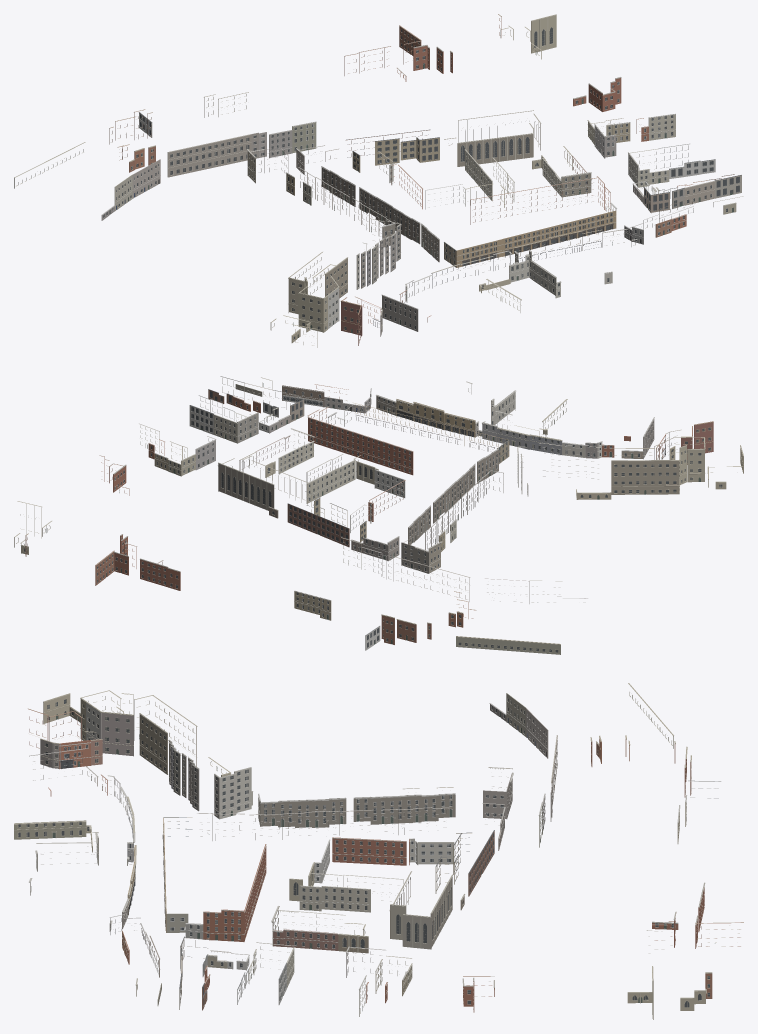
3 views of the same model, one above another, from view 1: azimuth 30°, elevation 25°; view 2: azimuth 150°, elevation 25°; view 3: azimuth 270°, elevation 25° (orthographic). The views are drawn at different scales.
Parts seen in each view (by area): view 1: f:way/59294560, f:way/329732237, f:way/93900071, f:way/1037990951, f:way/100328256, f:way/13219655, f:way/147456496, f:way/103654296, f:way/172315107, f:way/93900090, f:way/161063775, f:way/1038002873 (+14 smaller); view 2: f:way/59294560, f:way/13219655, f:way/93900091, f:way/93900071, f:way/100328256, f:way/161063724, f:way/1476229095, f:way/112080986, f:way/100328272, f:way/855161125, f:way/329732238, f:way/172315107 (+11 smaller); view 3: f:way/59294560, f:way/147456496, f:way/93900071, f:way/93900091, f:way/100328272, f:way/100328275, f:way/147456505, f:way/1476229095, f:way/172315107, f:way/103654296, f:way/100328256, f:way/100328277 (+7 smaller).
Boxes of the visible parts, x1=… form: f:way/59294560: x1=288, y1=252, x2=347, y2=332; f:way/329732237: x1=167, y1=134, x2=251, y2=177; f:way/93900071: x1=444, y1=110, x2=541, y2=166; f:way/1037990951: x1=502, y1=206, x2=616, y2=256; f:way/100328256: x1=345, y1=129, x2=439, y2=172; f:way/13219655: x1=493, y1=228, x2=637, y2=298; f:way/147456496: x1=356, y1=218, x2=401, y2=289; f:way/103654296: x1=114, y1=159, x2=160, y2=210; f:way/172315107: x1=542, y1=156, x2=592, y2=197; f:way/93900090: x1=444, y1=239, x2=502, y2=267; f:way/161063775: x1=500, y1=14, x2=556, y2=59; f:way/1038002873: x1=381, y1=294, x2=431, y2=331; f:way/59294560: x1=611, y1=437, x2=705, y2=494; f:way/13219655: x1=376, y1=381, x2=515, y2=442; f:way/93900091: x1=307, y1=407, x2=413, y2=475; f:way/93900071: x1=218, y1=455, x2=307, y2=518; f:way/100328256: x1=287, y1=491, x2=366, y2=547; f:way/161063724: x1=114, y1=542, x2=180, y2=590; f:way/1476229095: x1=497, y1=399, x2=567, y2=454; f:way/112080986: x1=456, y1=609, x2=560, y2=654; f:way/100328272: x1=306, y1=454, x2=355, y2=503; f:way/855161125: x1=214, y1=412, x2=258, y2=443; f:way/329732238: x1=381, y1=591, x2=461, y2=644; f:way/172315107: x1=255, y1=428, x2=314, y2=473; f:way/59294560: x1=80, y1=690, x2=197, y2=774; f:way/147456496: x1=168, y1=739, x2=253, y2=819; f:way/93900071: x1=389, y1=871, x2=465, y2=949; f:way/93900091: x1=203, y1=844, x2=266, y2=941; f:way/100328272: x1=299, y1=873, x2=403, y2=912; f:way/100328275: x1=332, y1=837, x2=410, y2=865; f:way/147456505: x1=40, y1=731, x2=102, y2=769; f:way/1476229095: x1=14, y1=796, x2=135, y2=852; f:way/172315107: x1=271, y1=906, x2=345, y2=950; f:way/103654296: x1=506, y1=693, x2=548, y2=758; f:way/100328256: x1=435, y1=830, x2=494, y2=896; f:way/100328277: x1=409, y1=838, x2=454, y2=864.
Size of the model in its own units: 275 by 23.58 by 263.
